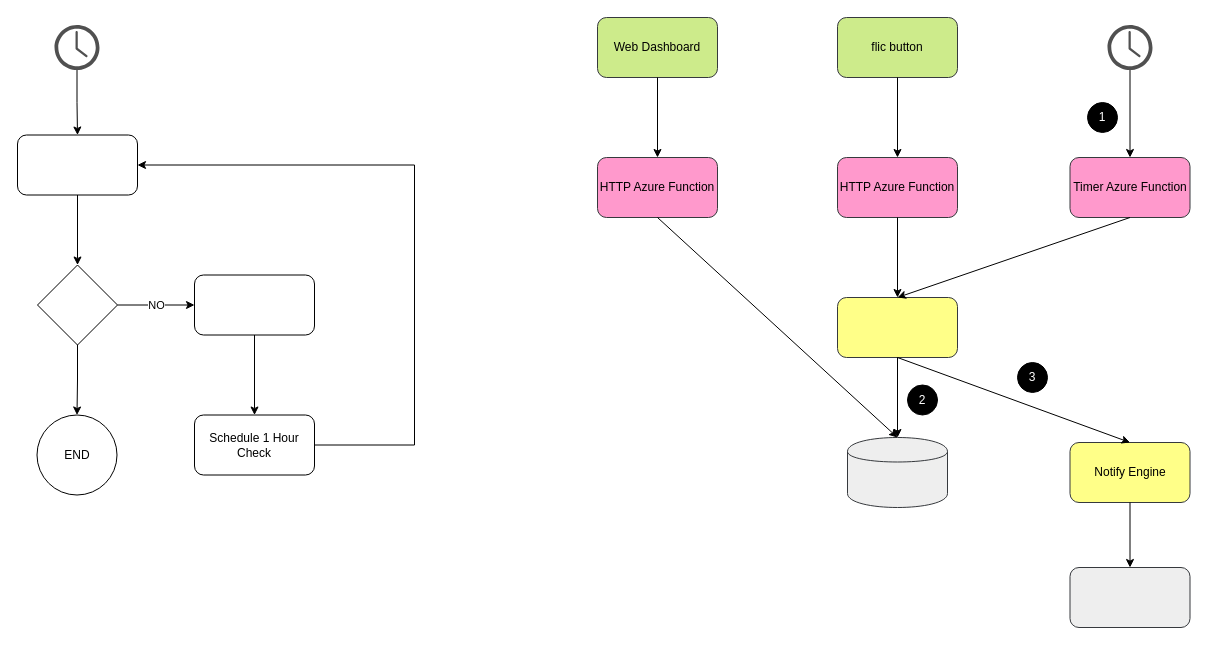
Some shapes in this 1208 by 645 pixel diagram are drawn without their labels. The centre of each missing label's shape, as x and y in pixels:
Check state: [77,164]
Pill Event Ledger: [897,472]
Pill Manager: [897,327]
Pills Taken?: [77,304]
Send Reminder: [254,304]
Twillio API: [1129,597]
